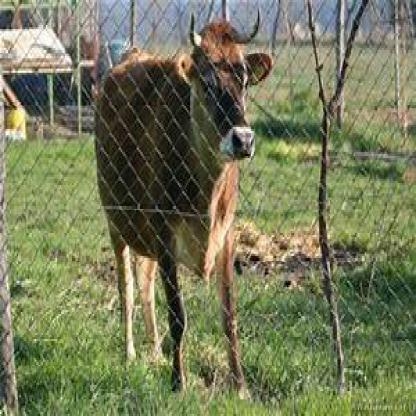cow: (94, 10, 273, 398)
